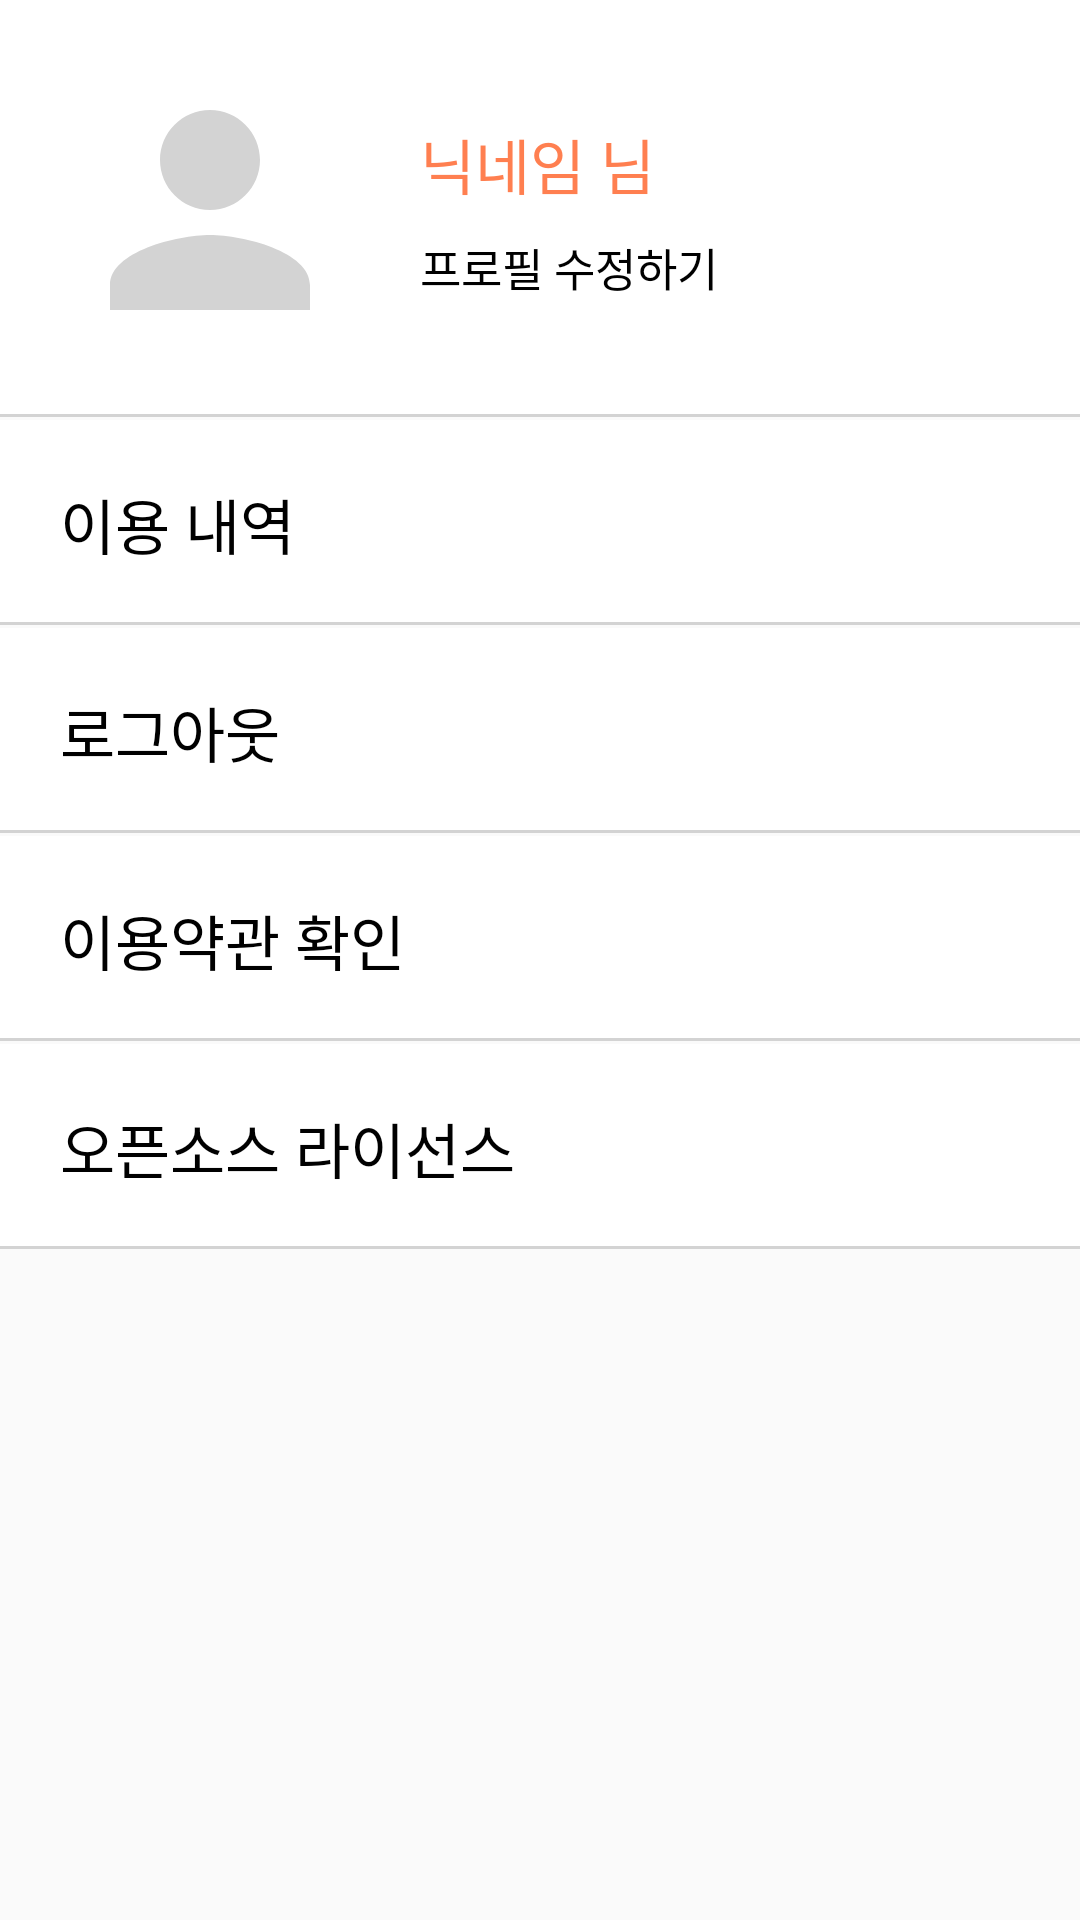

Named icons in this screenshot (1080 × 1920) and their bounding boxes, (x1, y1, x2, y2):
person: (110, 110, 310, 310)
